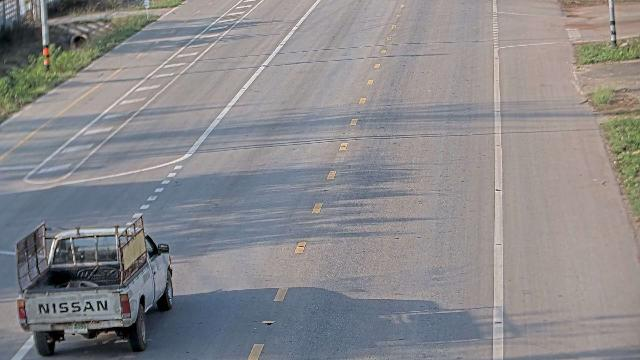pickup-truck: (14, 214, 174, 356)
